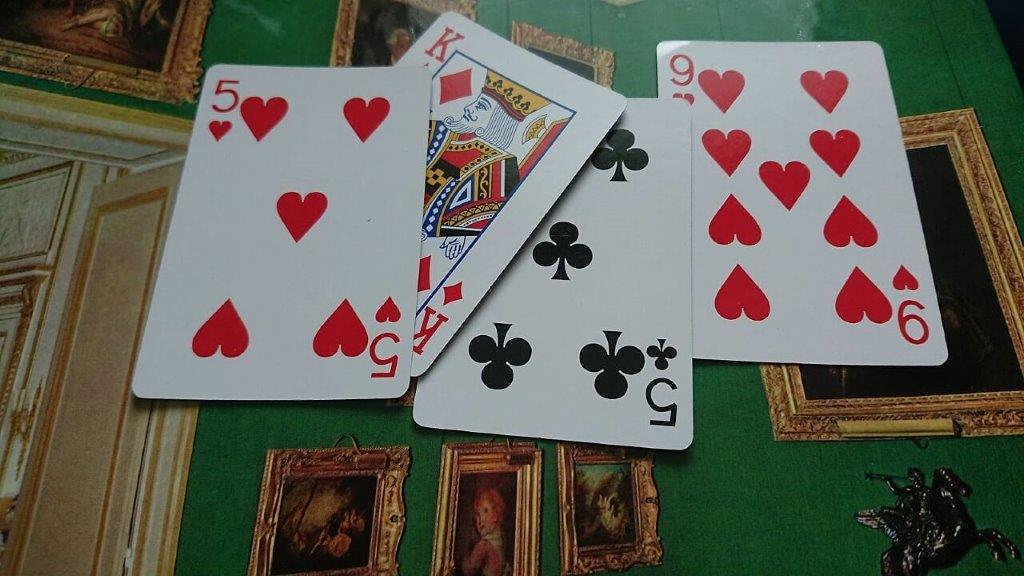5H: (205, 77, 243, 145)
9H: (668, 50, 697, 106)
